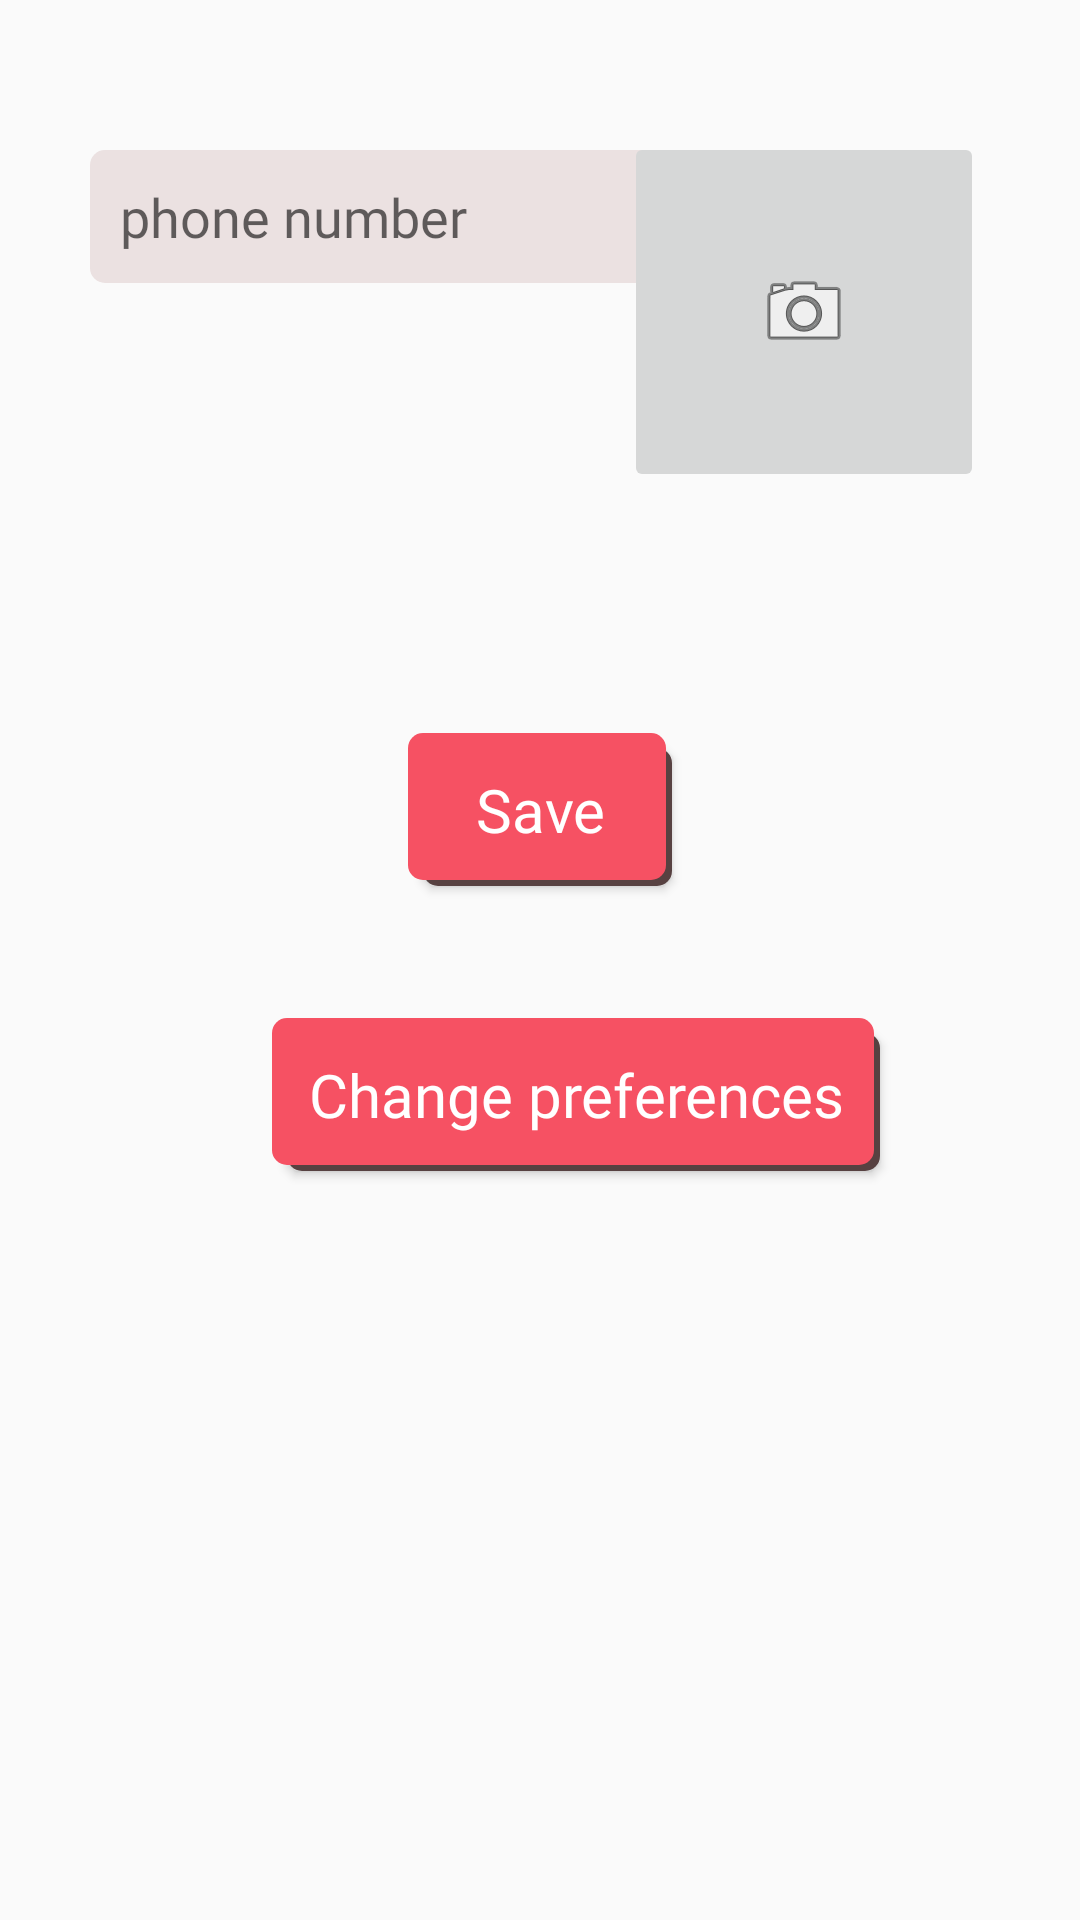

Icons on this 1080 × 1920 Android screen, each with its box as box(x1, y1, x2, y2):
camera: box(624, 150, 972, 474)
